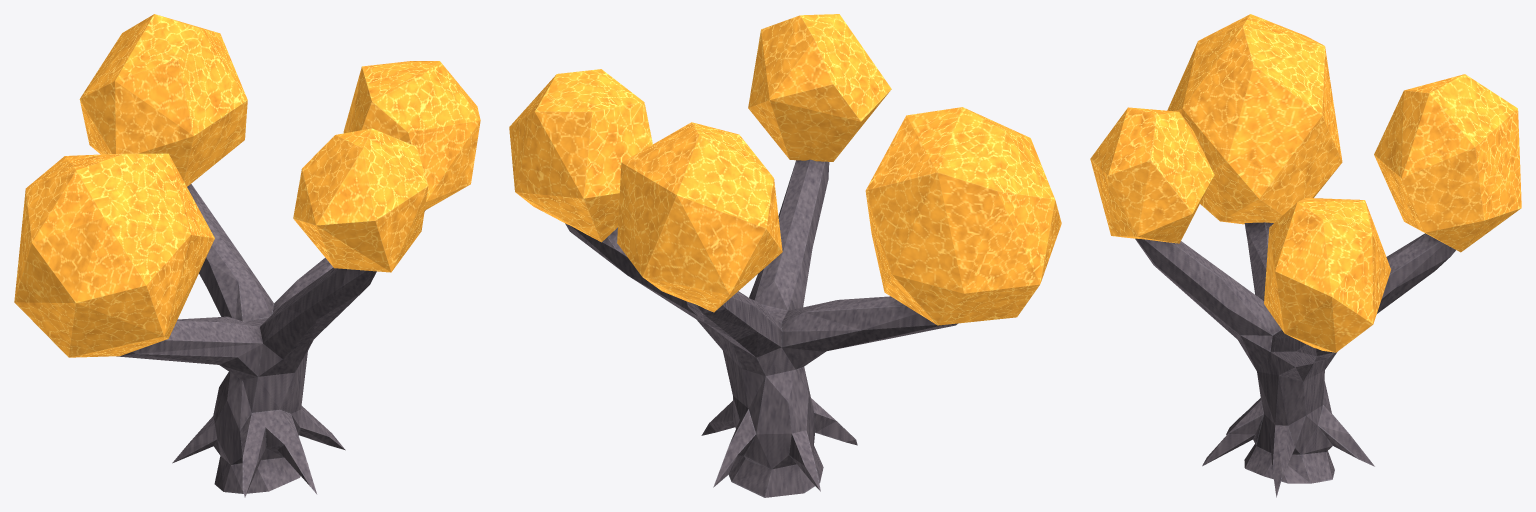
The model's file is underworld-flora-fungal-puffcap-spreading.glb.
3 views of the same model, side by side, from view 1: azimuth 30°, elevation 25°; view 2: azimuth 150°, elevation 25°; view 3: azimuth 270°, elevation 25° (orthographic). The views are drawn at different scales.
Parts seen in each view (by area): view 1: puffs, fused-stalk; view 2: puffs, fused-stalk; view 3: puffs, fused-stalk.
Part boxes in pixels (x1,y1,x2,y2): puffs: (14, 14, 480, 357); fused-stalk: (116, 184, 425, 497); puffs: (509, 14, 1061, 325); fused-stalk: (565, 159, 958, 497); puffs: (1090, 14, 1521, 352); fused-stalk: (1135, 222, 1455, 497).
Bounding box in the file's own units: 6.68 × 5.26 × 5.21.
2 materials, 2 textured.
